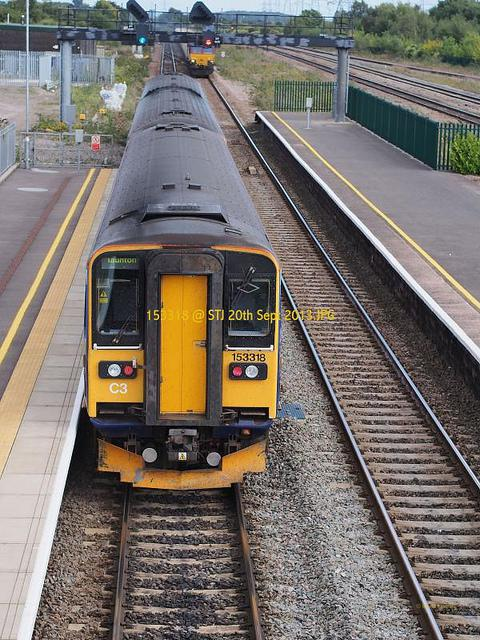Train: (82, 70, 284, 489), (180, 44, 217, 79)
